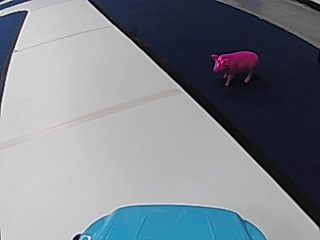pig: (207, 47, 258, 85)
